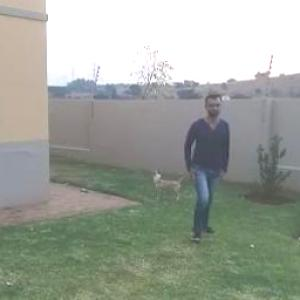follow: (179, 89, 230, 243)
